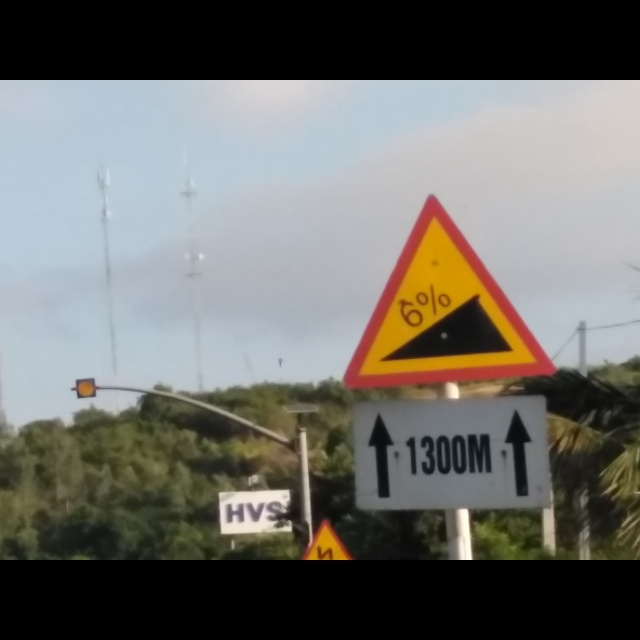Dốc lên nguy hiểm: (342, 192, 558, 394)
